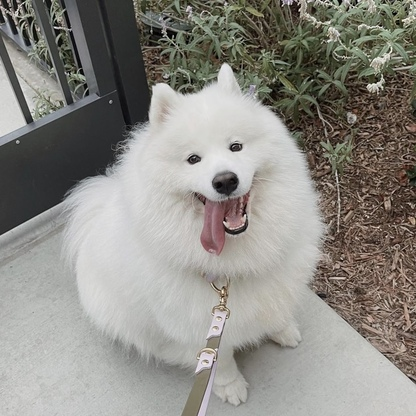samoyed: (51, 55, 329, 409)
